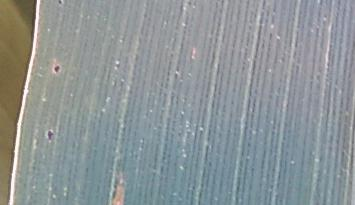tarspot: (45, 128, 56, 142), (51, 62, 62, 75), (56, 1, 64, 5)
